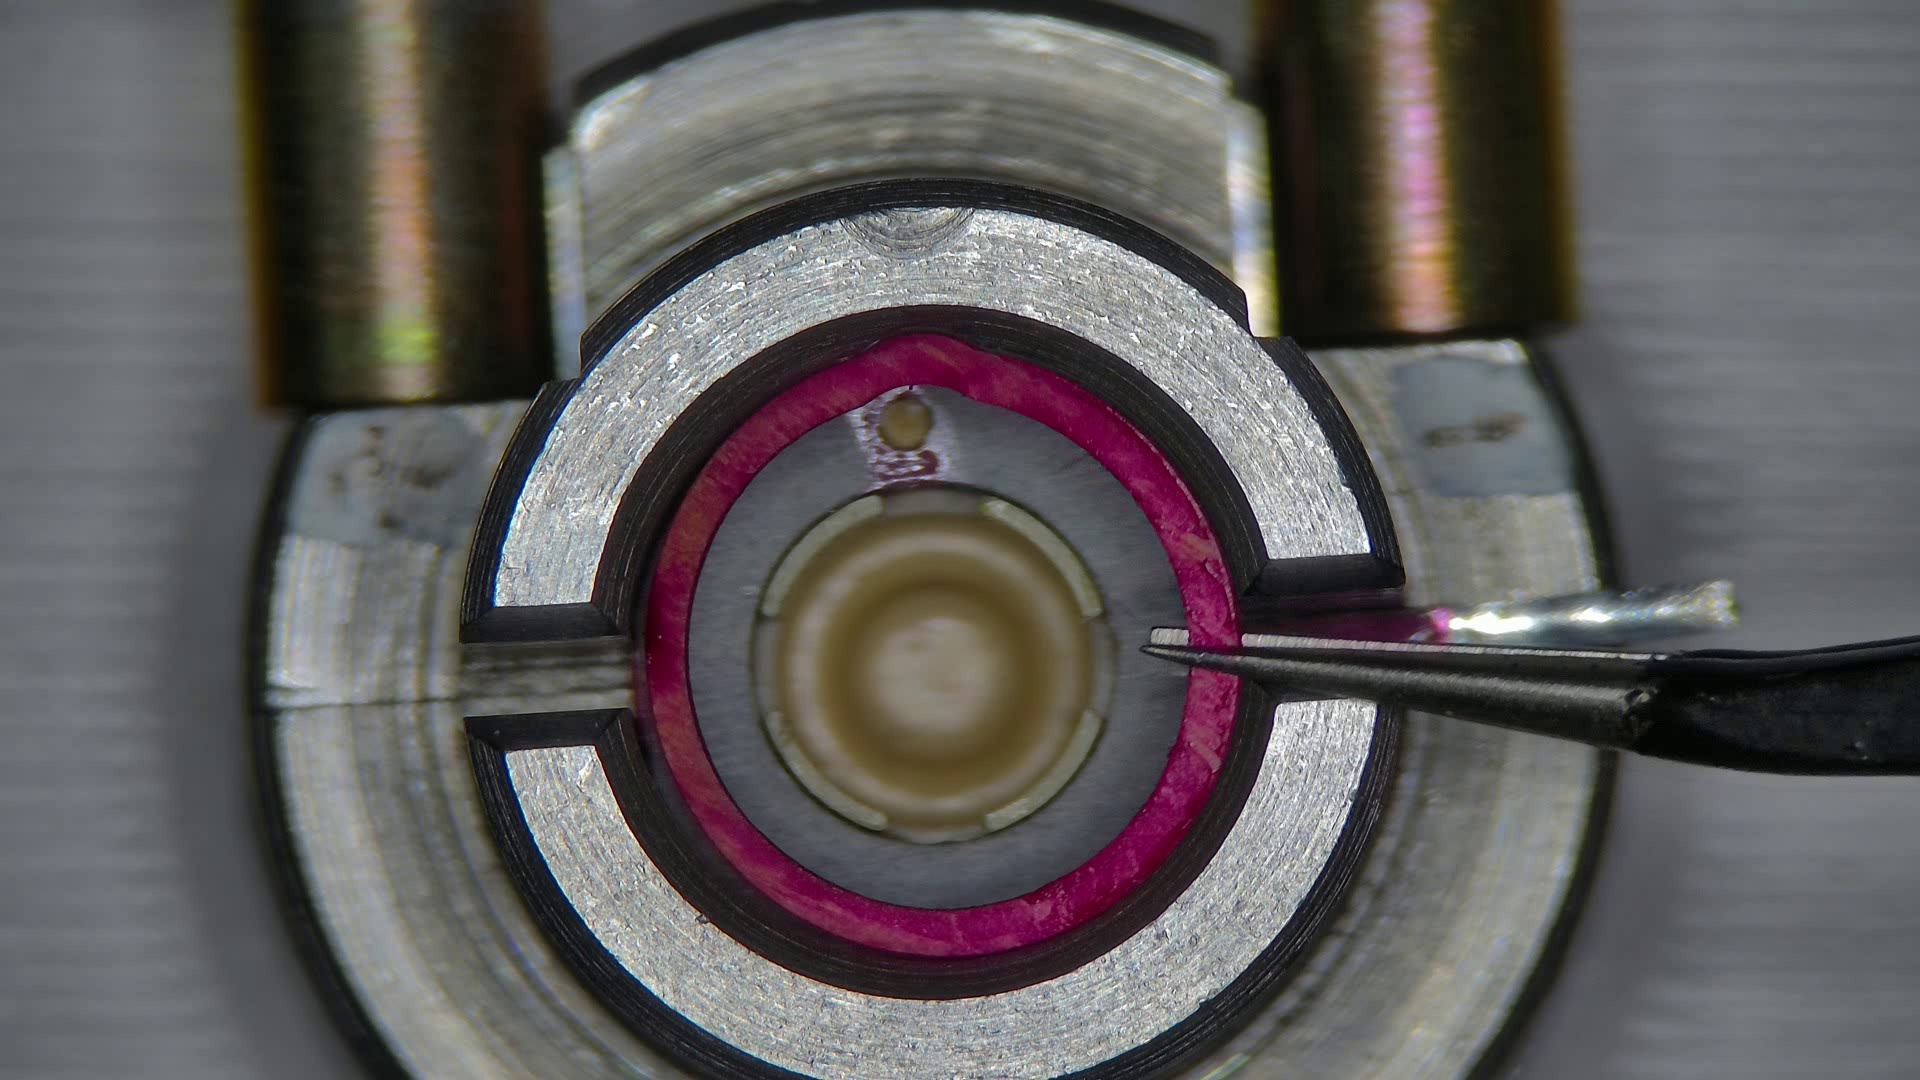GreyOring: (641, 334, 1236, 958)
YellowOring: (689, 390, 1186, 907)
